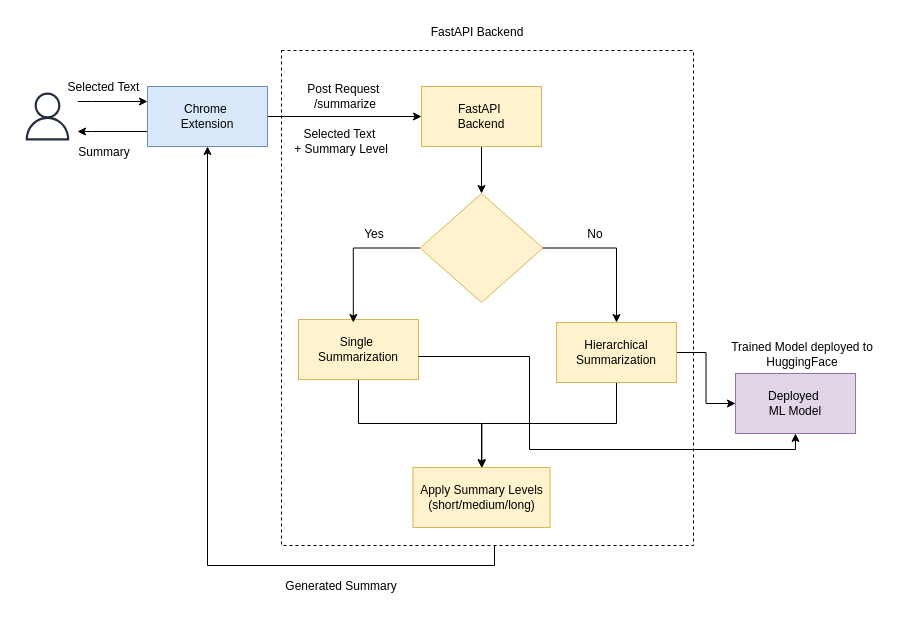
Image size: 900x618. Some labels were removed from this diagram. Each missing label, with the centre of its shape:
"Input Length <= 1024 tokens" goes at (481,247).
"User" goes at (47,116).
